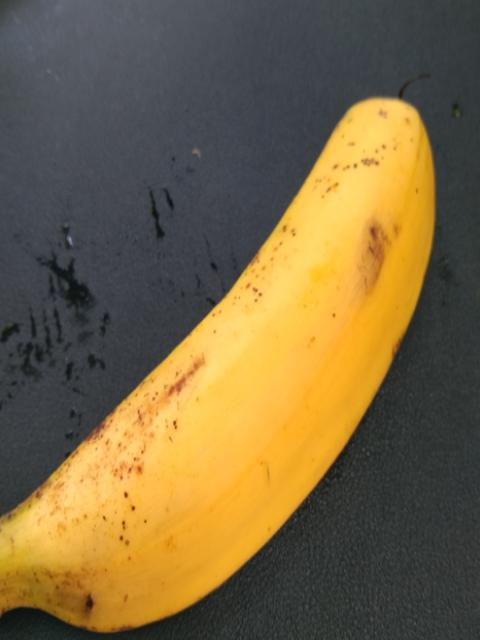ripe: (0, 76, 438, 639)
